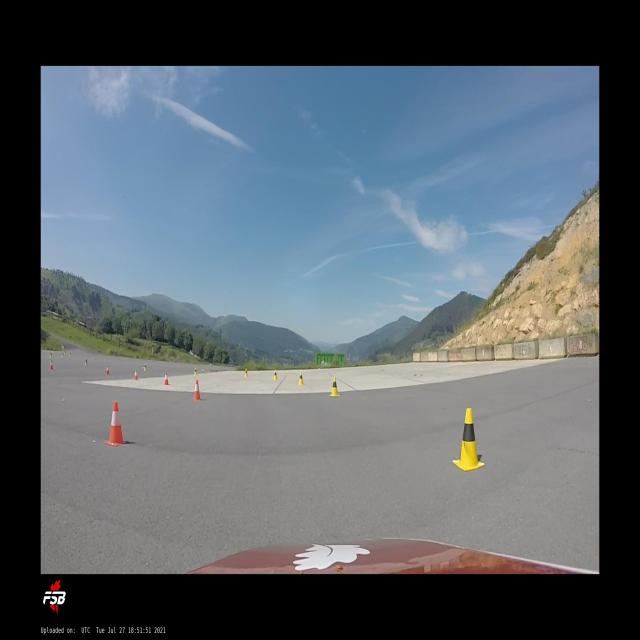orange_cone: (104, 401, 128, 447), (192, 379, 202, 401), (163, 372, 170, 385), (106, 365, 110, 376), (134, 370, 138, 381), (194, 367, 198, 376), (50, 361, 54, 370)
yellow_cone: (452, 408, 486, 471), (330, 376, 340, 396), (298, 372, 304, 385), (273, 370, 278, 380), (244, 368, 249, 377), (194, 367, 198, 376), (84, 358, 88, 366), (143, 364, 147, 371), (49, 353, 52, 358)
